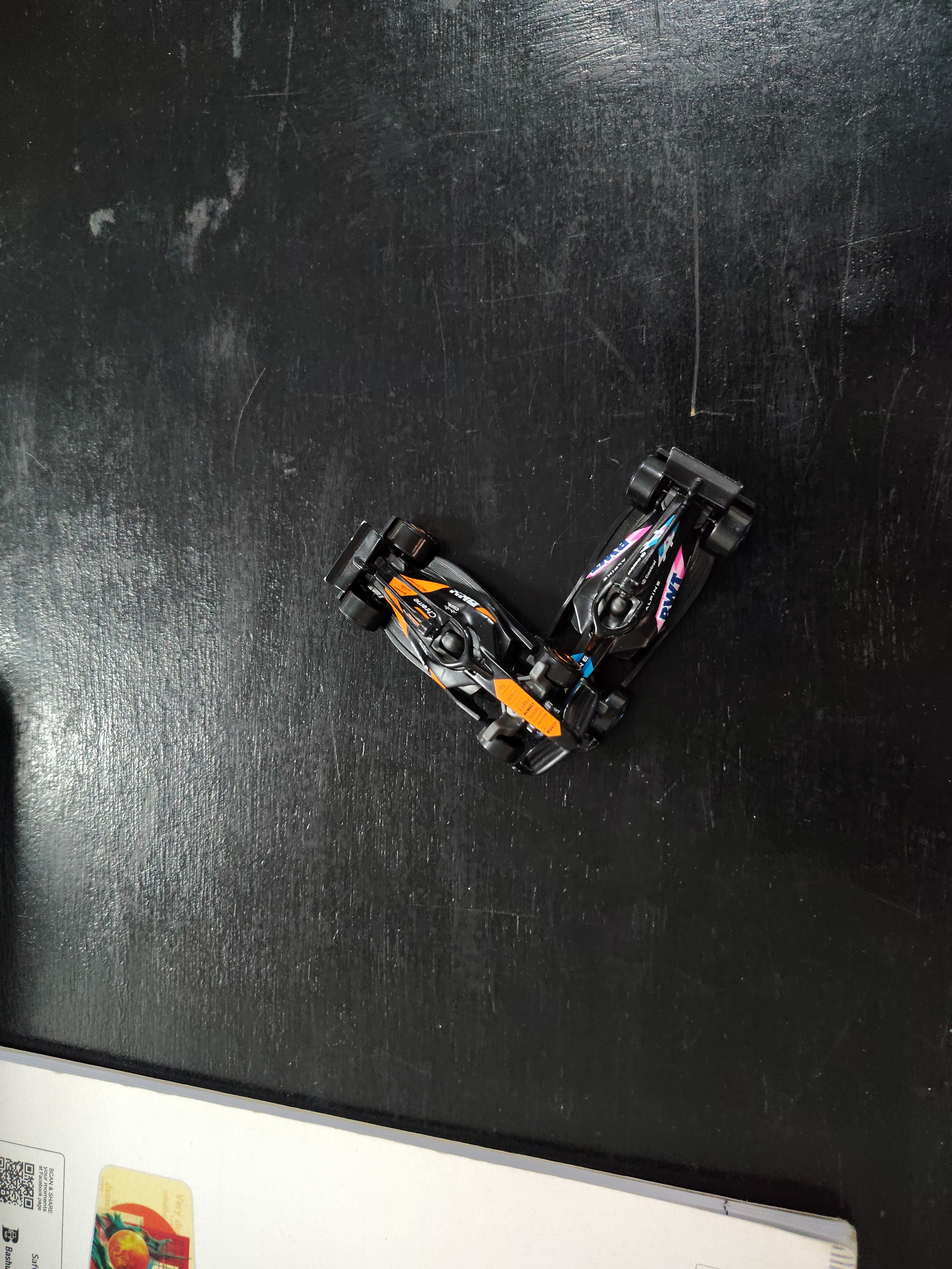Alpine A524: (564, 380, 755, 711)
McLaren MCL40: (228, 428, 584, 779)
